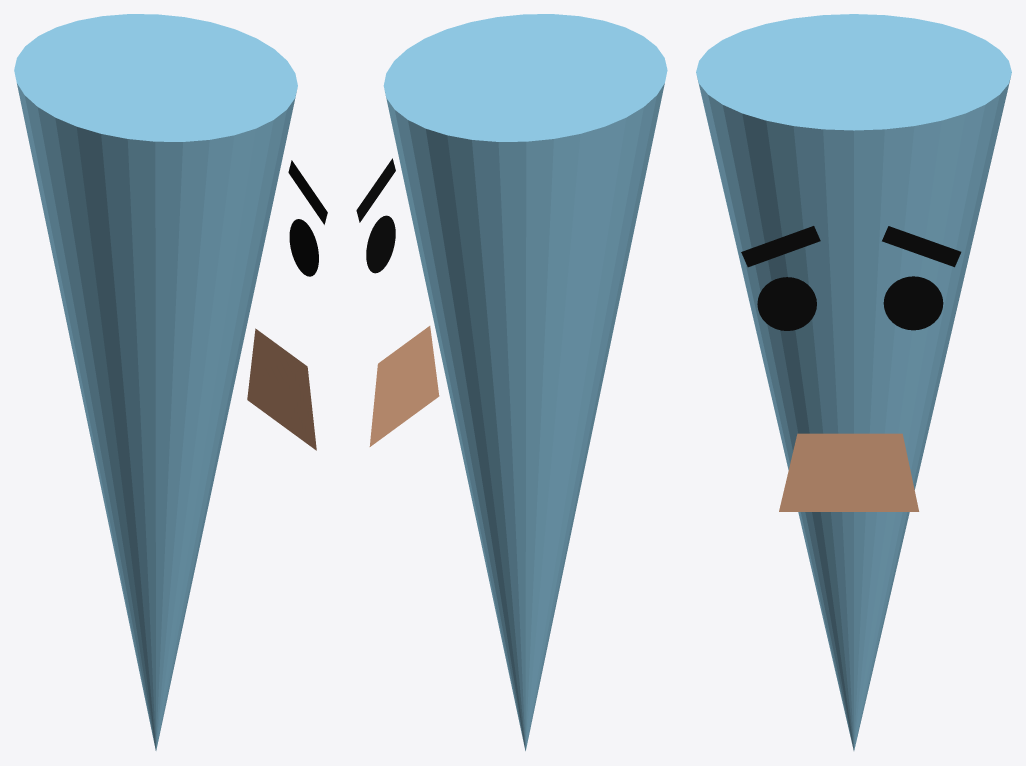
Rendered from turaran_2.fbx.
3 views of the same model, side by side, from view 1: azimuth 30°, elevation 25°; view 2: azimuth 150°, elevation 25°; view 3: azimuth 270°, elevation 25° (orthographic).
Visible parts, largest first — view 1: turara, kuti2, me.003, mayu2; view 2: turara, kuti2, me, mayu; view 3: turara, kuti2, me, me.003, mayu2, mayu.
Boxes of the visible parts, x1,y1,x2,y2 form: turara: [14, 14, 297, 750]; kuti2: [247, 328, 316, 450]; me.003: [289, 219, 318, 276]; mayu2: [288, 160, 327, 224]; turara: [383, 14, 667, 750]; kuti2: [369, 326, 439, 446]; me: [366, 215, 395, 273]; mayu: [356, 158, 395, 222]; turara: [696, 14, 1011, 750]; kuti2: [779, 433, 919, 511]; me: [883, 276, 943, 330]; me.003: [757, 277, 816, 330]; mayu2: [741, 226, 820, 267]; mayu: [882, 226, 961, 267].
Bounding box in the file's own units: 3.18 × 2.84 × 7.55.
